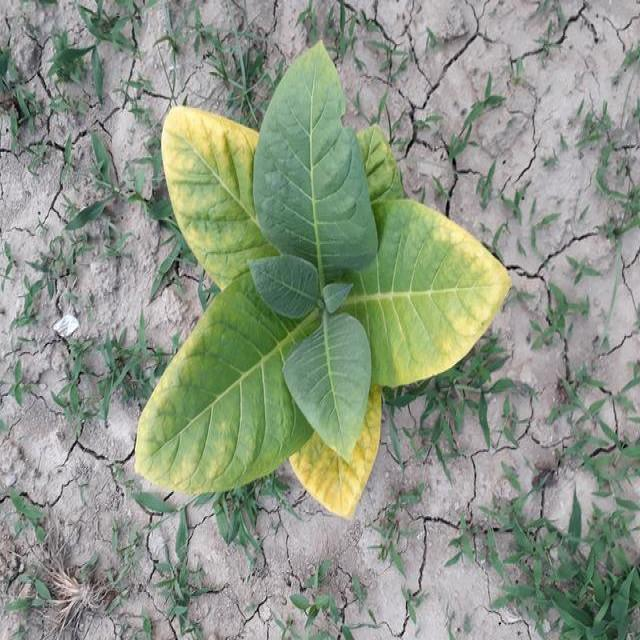crop: (138, 38, 508, 526)
